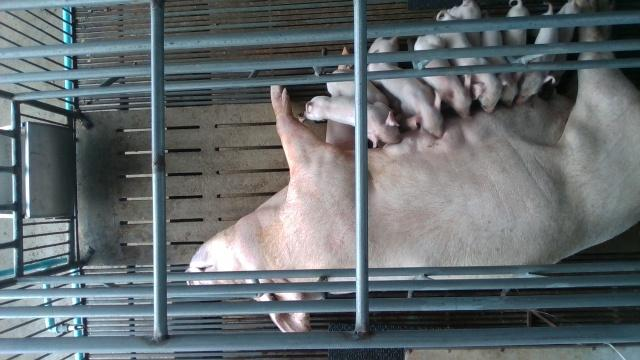piglet: (435, 9, 512, 113), (325, 69, 418, 136), (368, 59, 445, 138), (298, 94, 402, 148), (412, 35, 473, 118), (517, 1, 558, 104), (482, 14, 520, 110)
sow-sleep-lactate: (186, 0, 640, 331)
